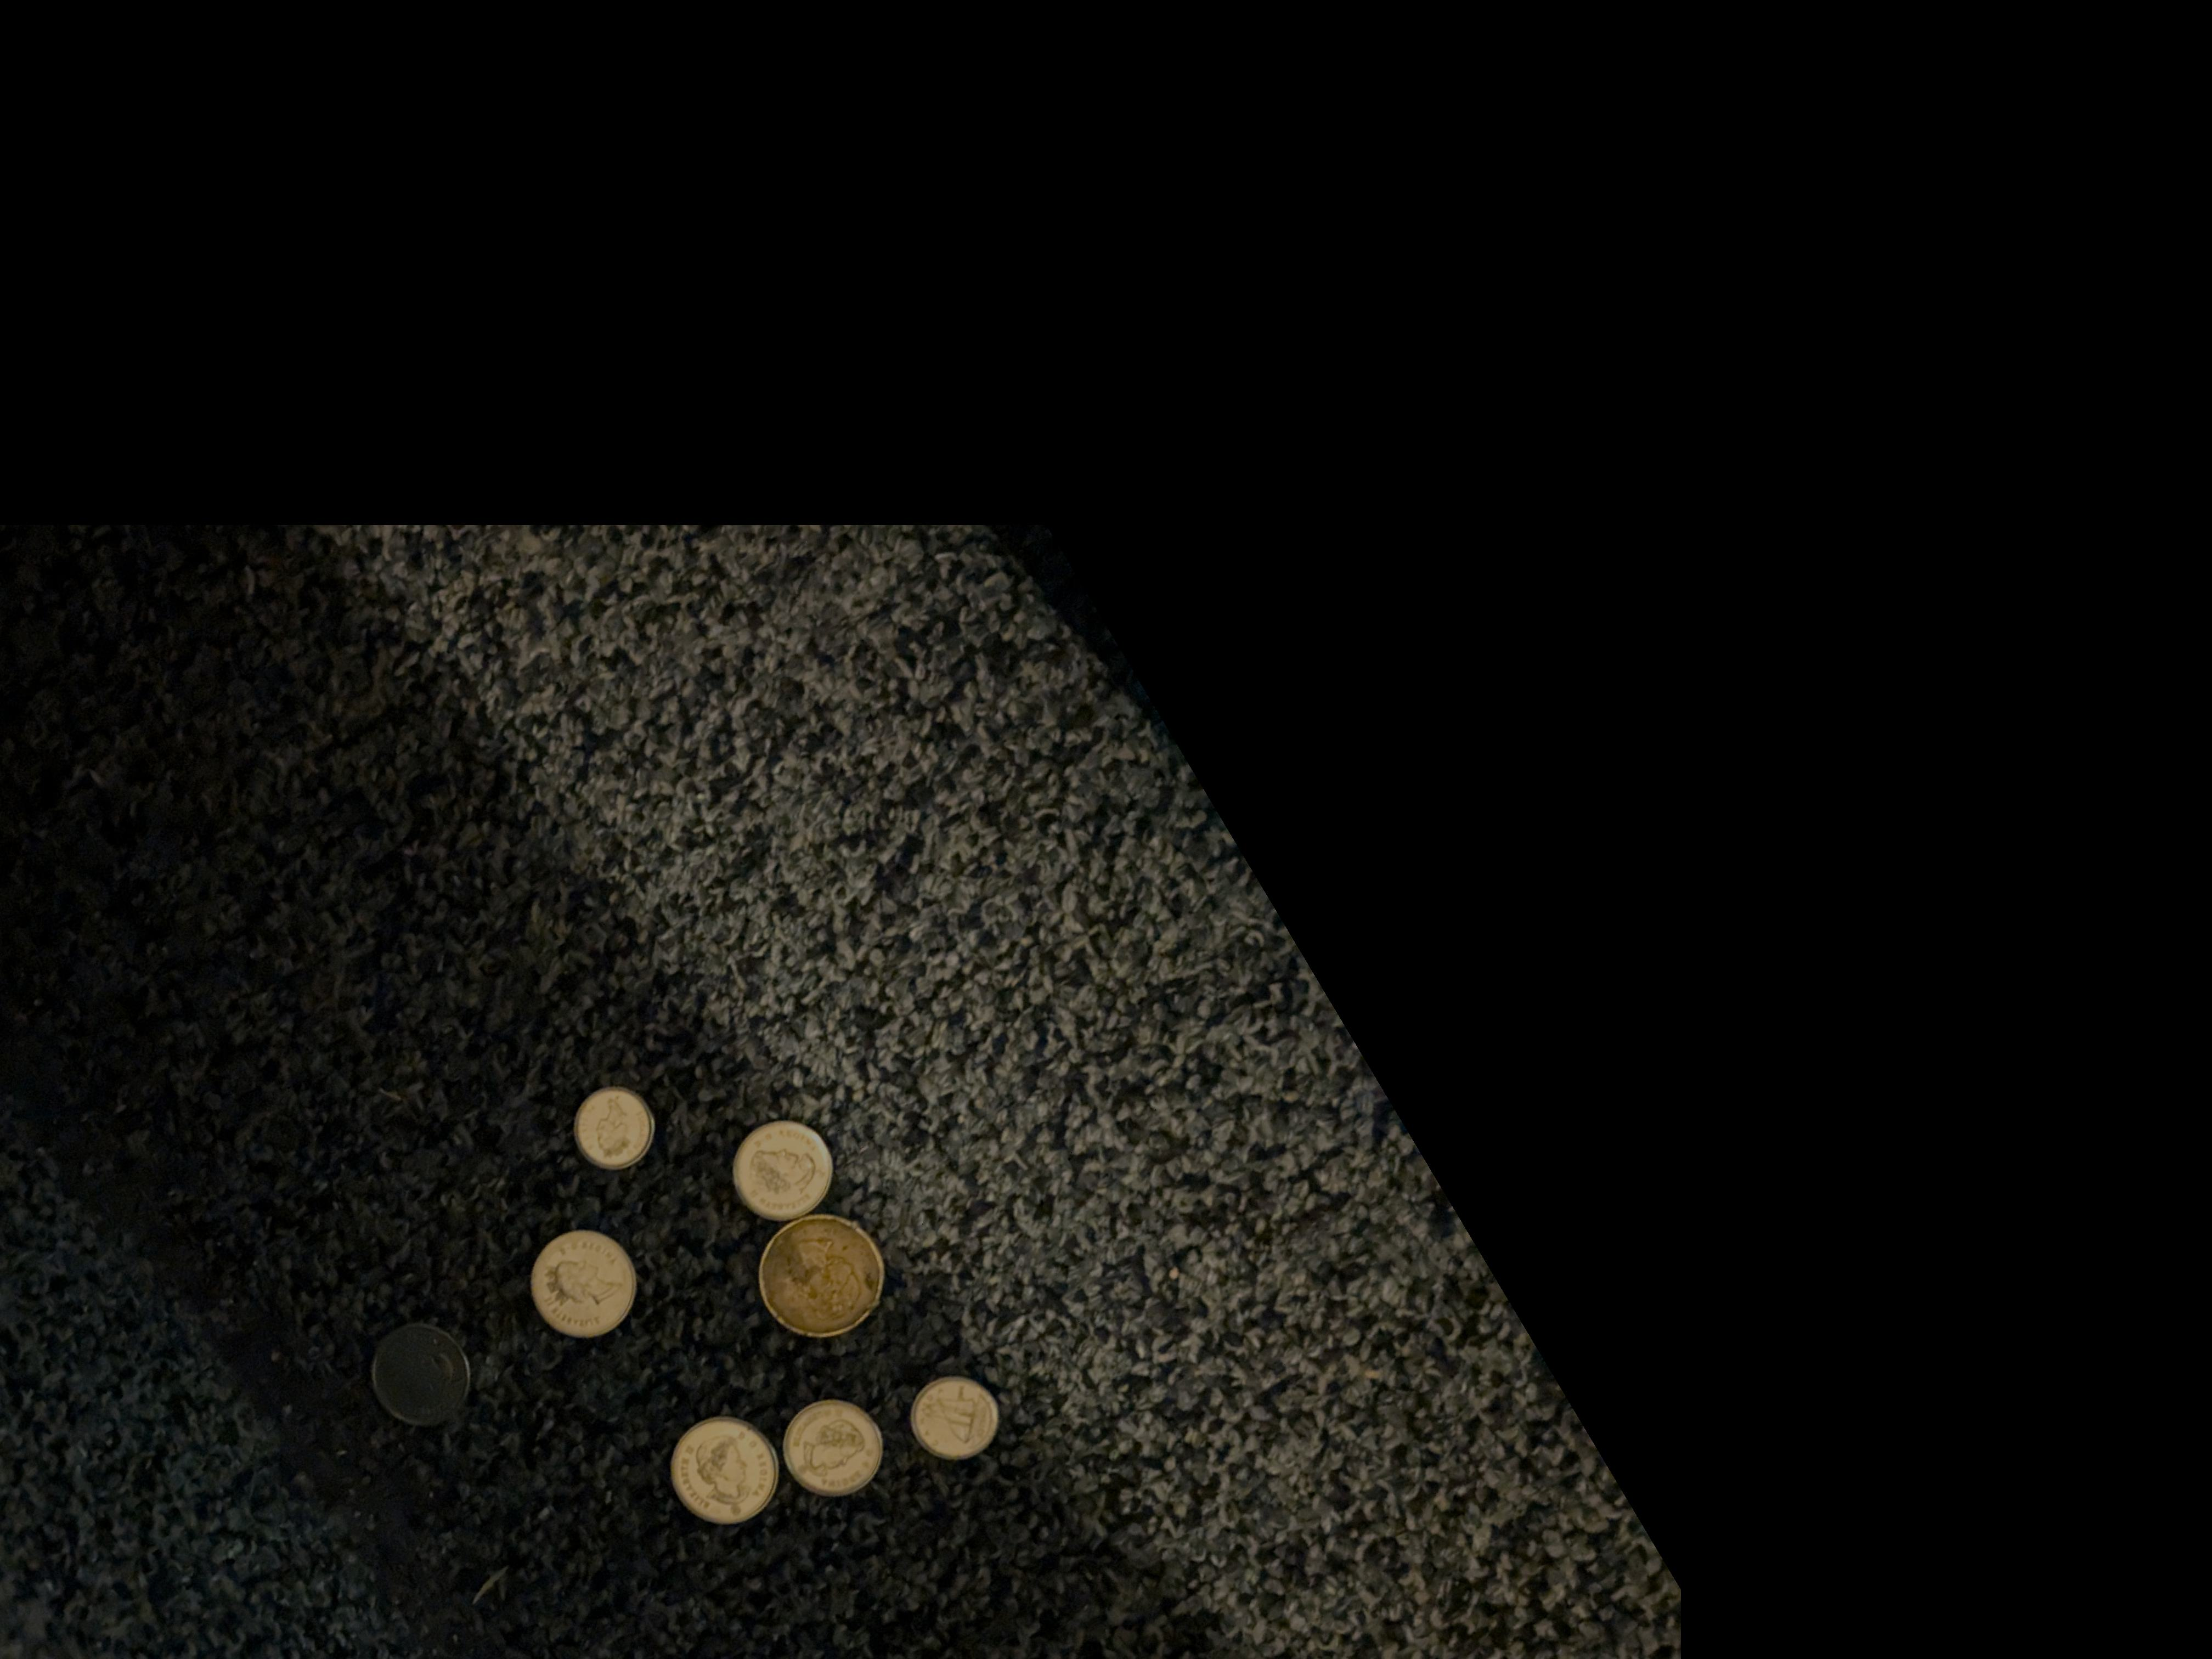dime: (914, 1375, 1005, 1460), (573, 1082, 655, 1171)
loonie: (761, 1213, 887, 1342)
nickel: (364, 1319, 475, 1429), (735, 1117, 840, 1215), (784, 1399, 881, 1493)
quarter: (672, 1415, 780, 1528), (535, 1234, 636, 1338)
